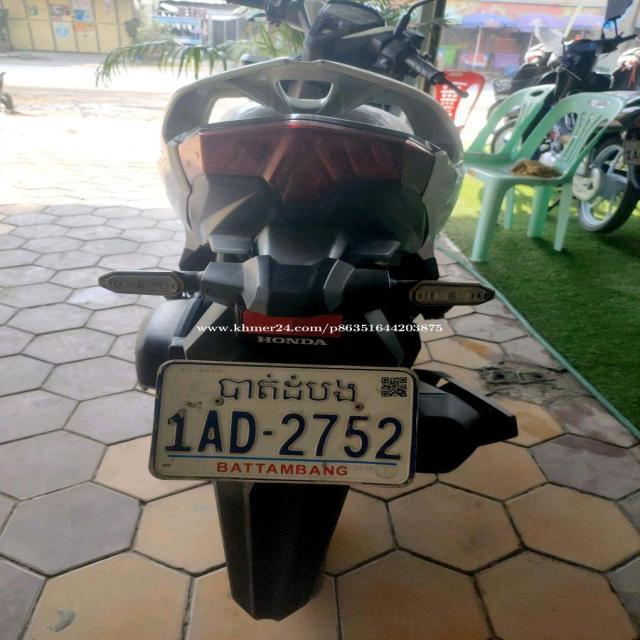Battambang: (218, 374, 358, 406)
